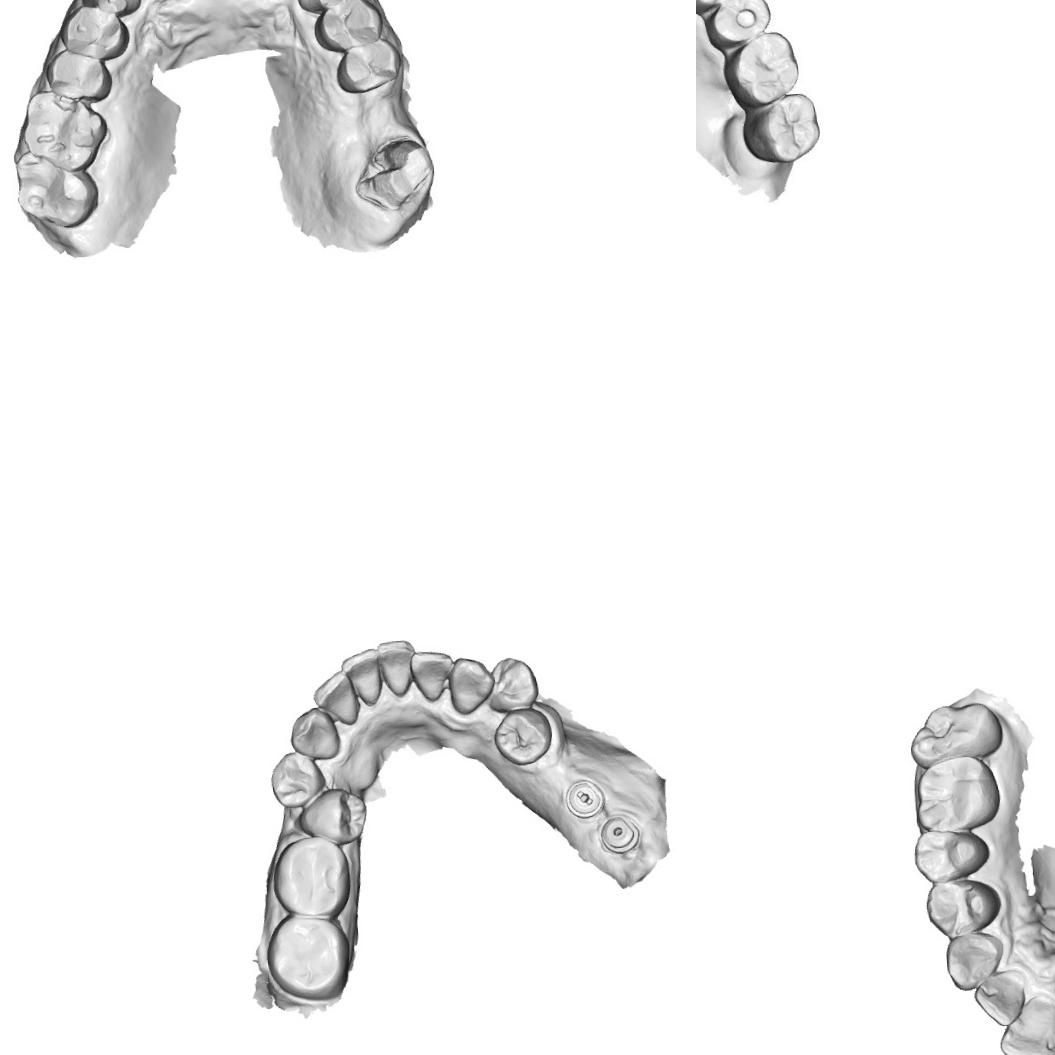canine: (942, 929, 1008, 993), (444, 654, 497, 717), (286, 704, 342, 760), (78, 0, 141, 16), (292, 0, 349, 13)
crown: (352, 133, 436, 216)
implant: (596, 810, 642, 855)
implant_minus: (562, 778, 605, 820)
incisor: (993, 992, 1055, 1055), (970, 968, 1028, 1030), (310, 669, 361, 728), (374, 636, 420, 700), (338, 646, 384, 707), (408, 647, 456, 703)
molar: (17, 86, 109, 177), (262, 911, 352, 1001), (266, 832, 353, 922), (13, 146, 101, 234), (912, 752, 1003, 834), (905, 700, 1004, 770), (736, 88, 824, 166), (720, 28, 802, 109)
premolar: (923, 873, 1004, 943), (908, 824, 994, 886), (291, 784, 370, 848), (57, 0, 128, 62), (331, 37, 404, 96), (42, 45, 110, 105), (266, 746, 329, 810), (700, 0, 774, 54), (310, 0, 385, 53), (489, 706, 553, 766), (487, 652, 541, 714)
